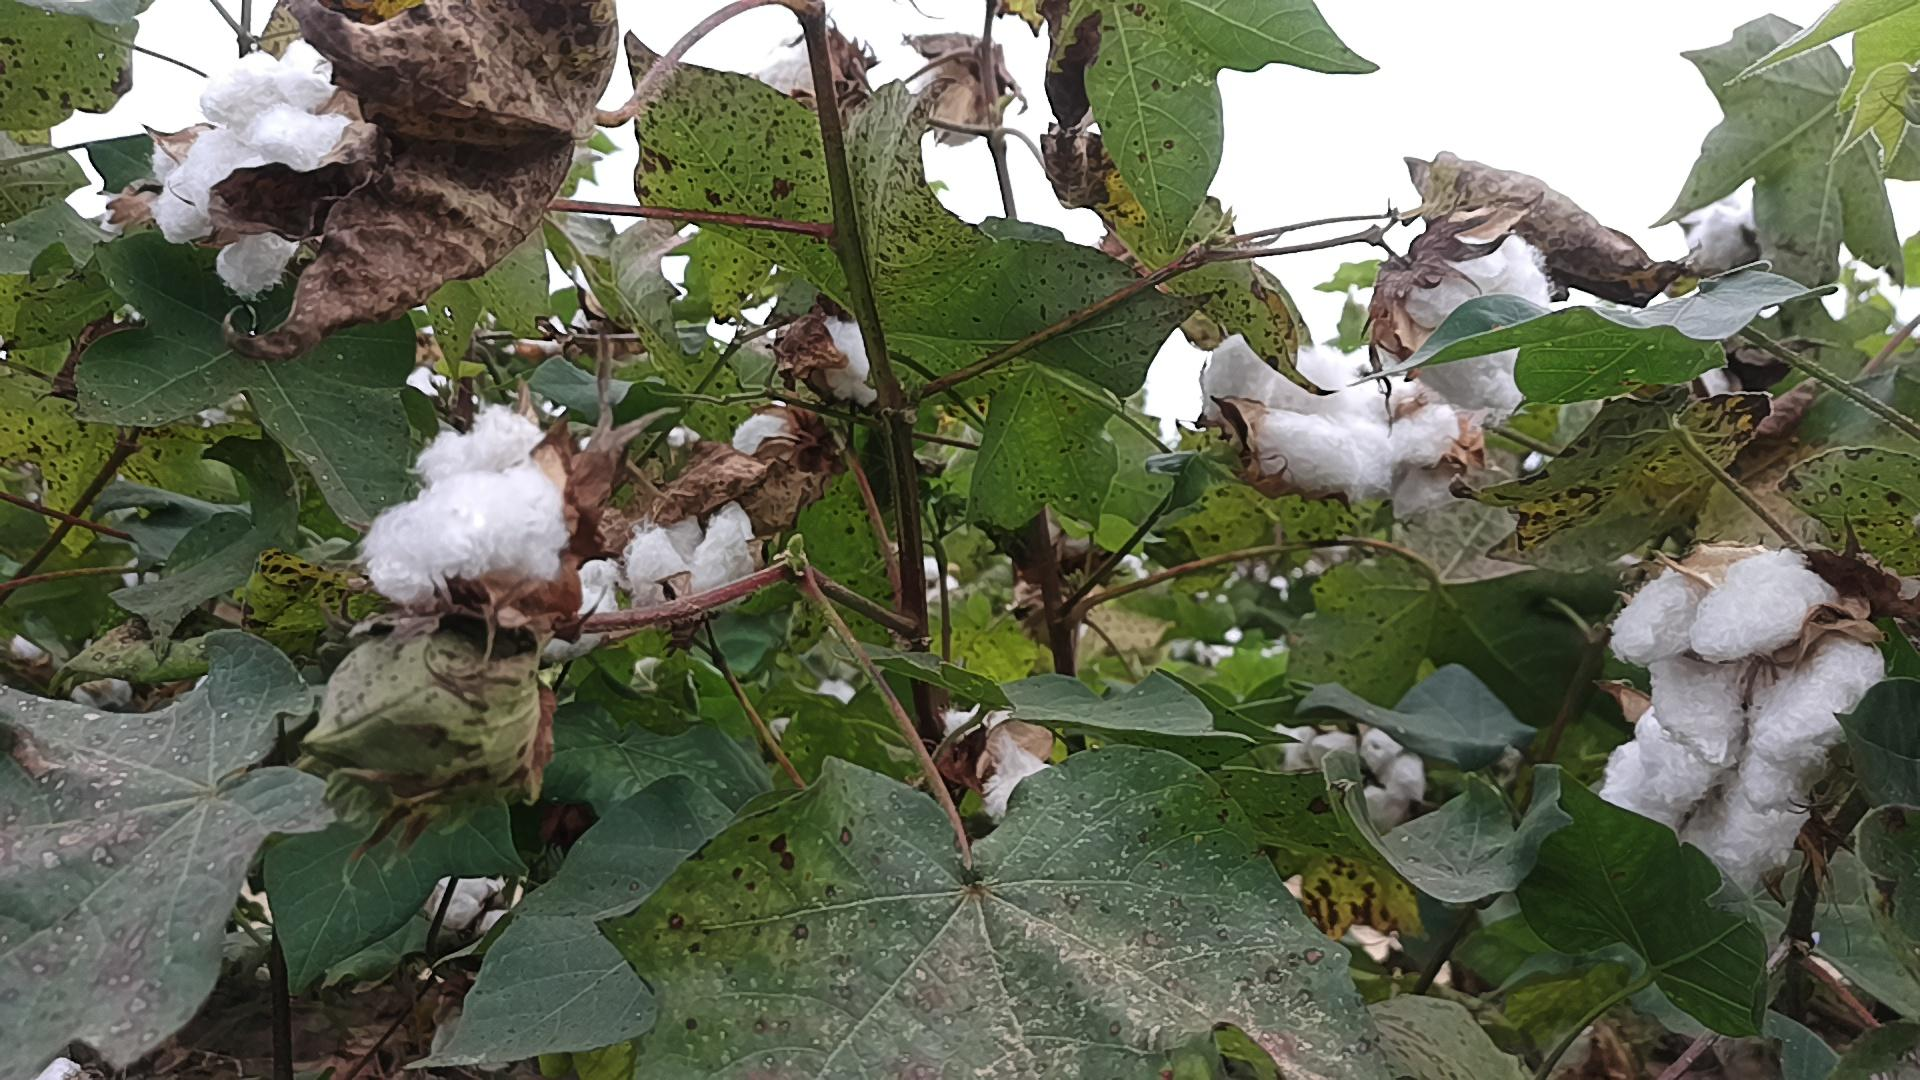cotton_ready: (1615, 546, 1888, 800), (158, 40, 352, 295), (361, 406, 575, 607), (1600, 709, 1808, 890), (1197, 326, 1390, 497), (1408, 233, 1548, 409), (574, 502, 756, 622), (1312, 729, 1428, 836), (1688, 195, 1771, 277), (985, 728, 1056, 823), (430, 870, 527, 935), (1387, 384, 1461, 468), (814, 323, 876, 397), (738, 407, 795, 465)
